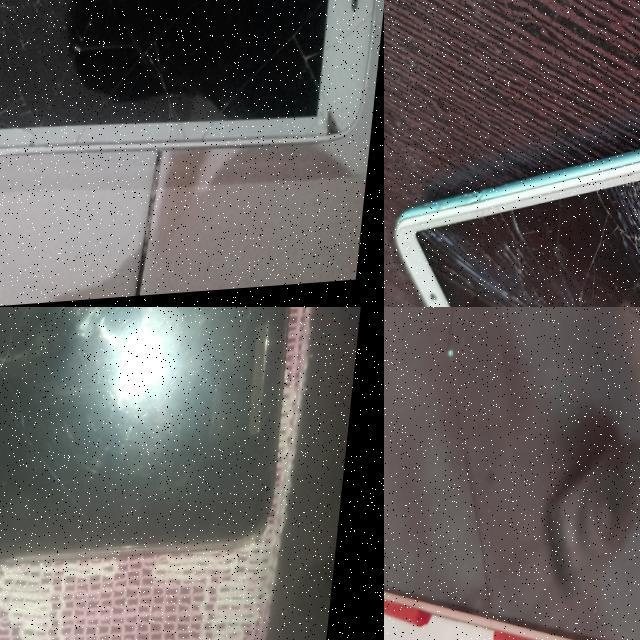screen crack: (393, 307, 640, 628), (393, 105, 640, 307), (264, 0, 384, 168), (0, 307, 87, 481), (185, 307, 318, 338)
